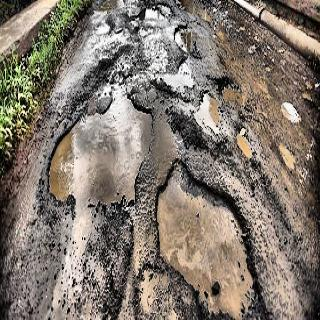pothole: (151, 150, 259, 320), (45, 65, 155, 221), (196, 91, 223, 140), (274, 134, 298, 175), (216, 74, 244, 108), (173, 20, 198, 57), (236, 128, 253, 161), (137, 4, 165, 23), (195, 3, 214, 25)
